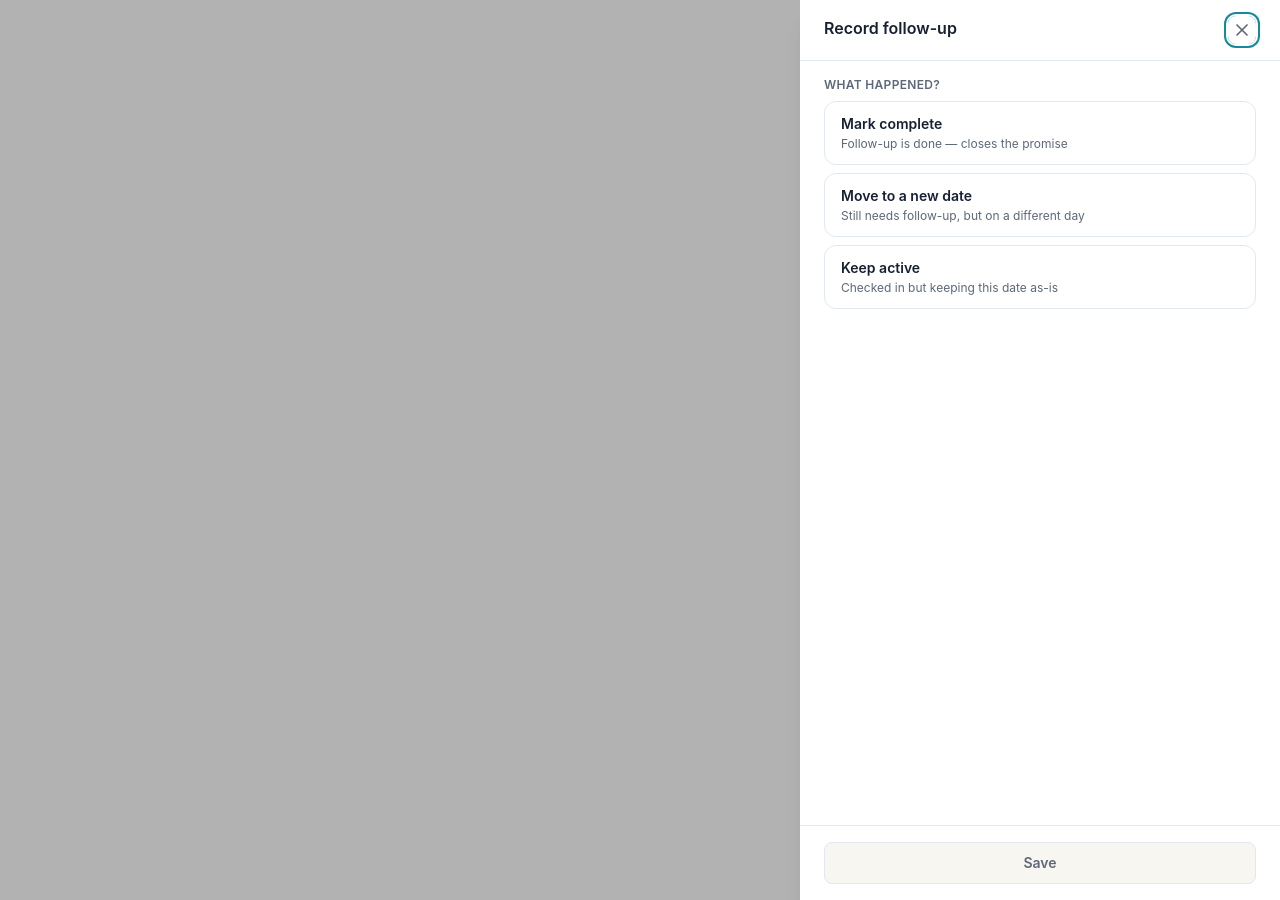
Test: FollowUpResolutionPanel — dirty-close contract › traps Tab between the two confirm buttons and Escape closes only the confirmation
Click the button "Mark complete Follow-up is done — closes the promise" at {"x": 1040, "y": 133}, box [824,101,1256,165]
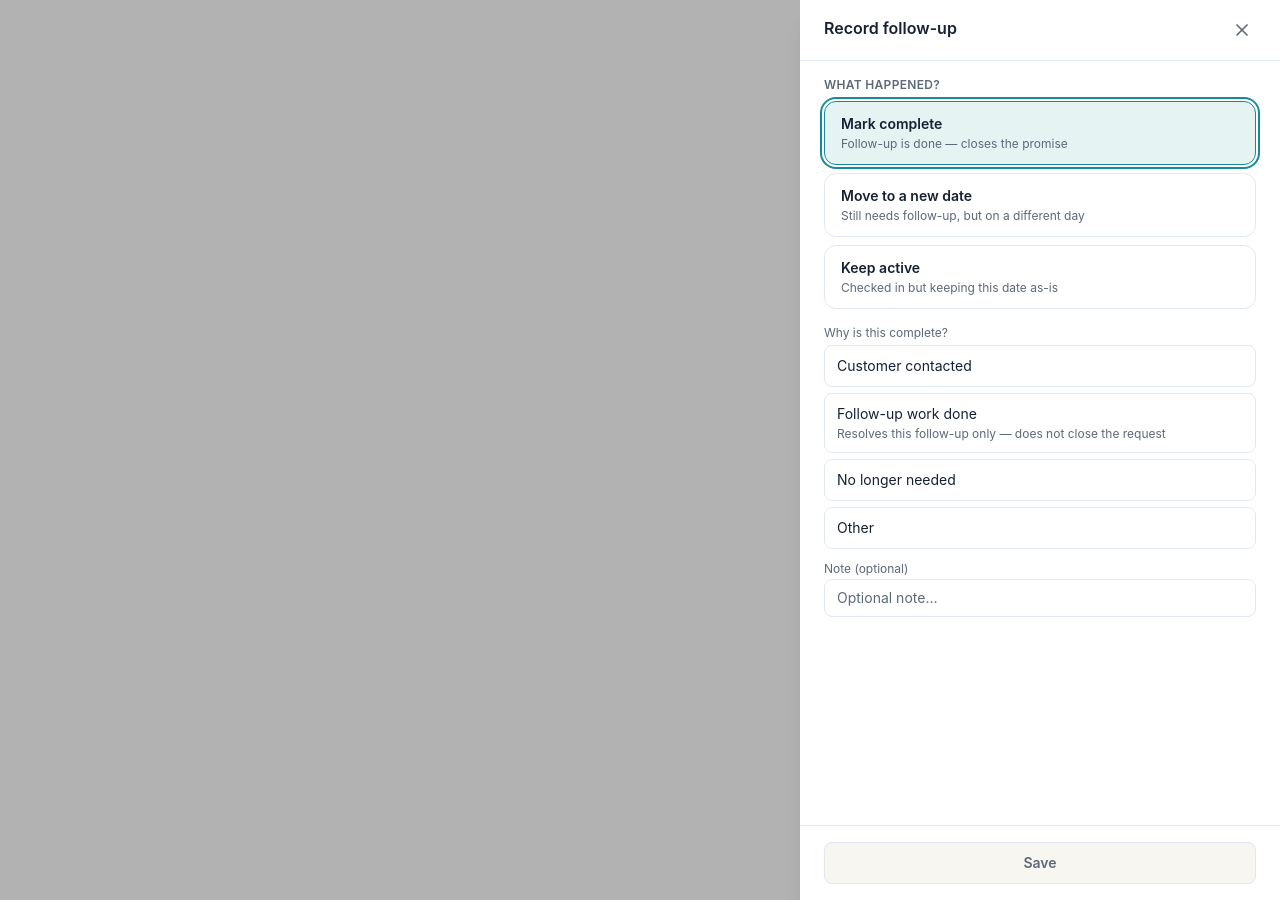
Click the button named "Close" at {"x": 1242, "y": 30}, box [1228,16,1256,44]
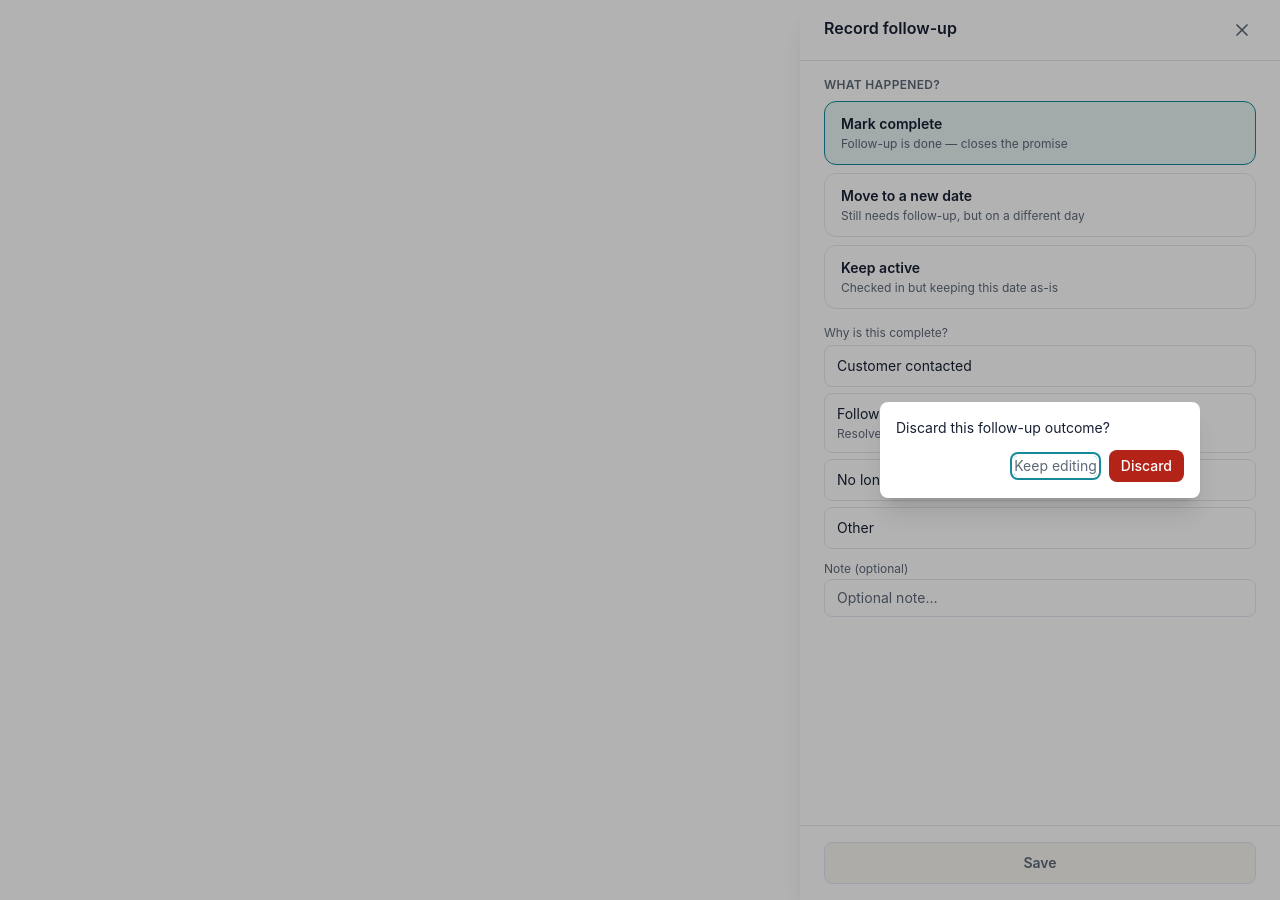
Press Tab
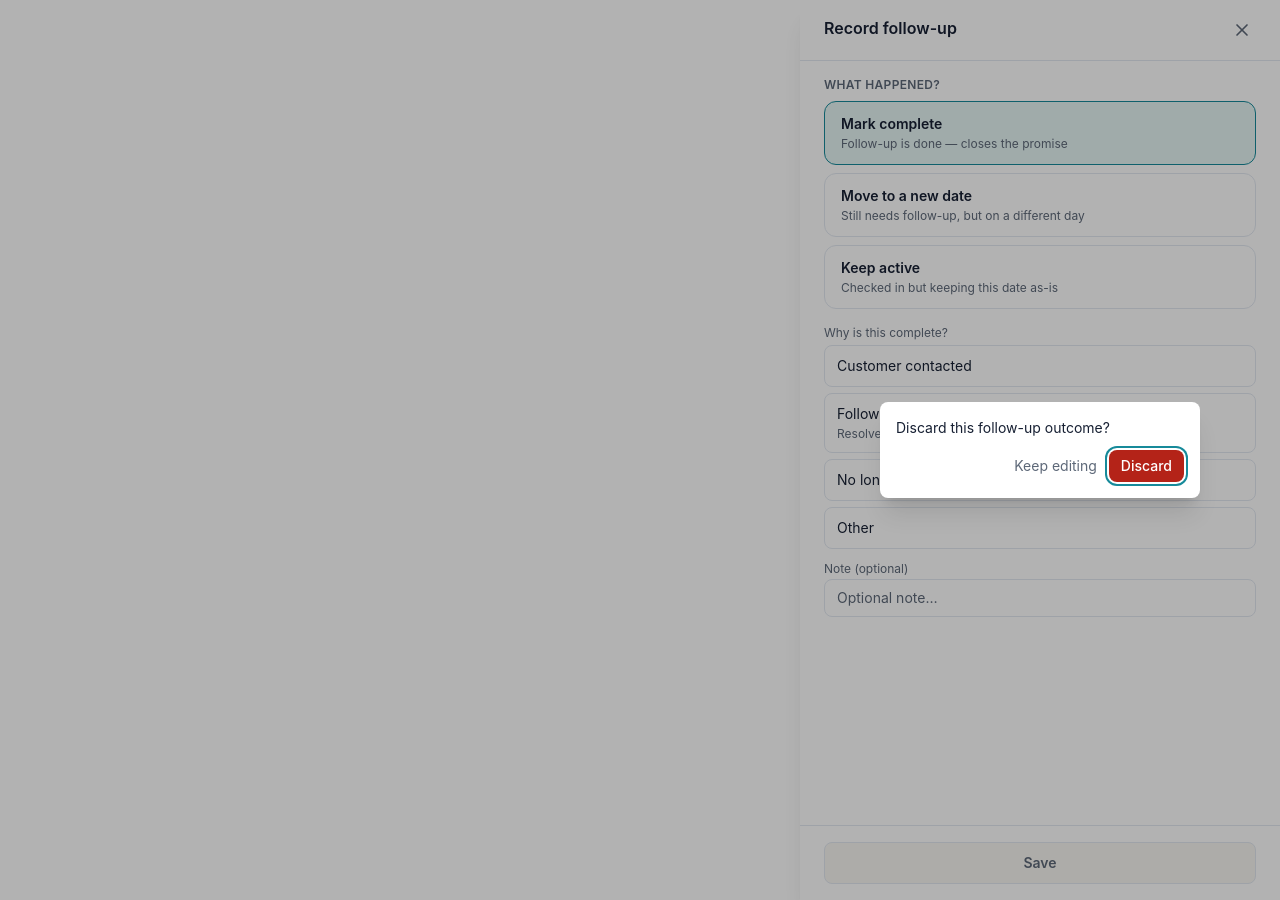
Press Tab
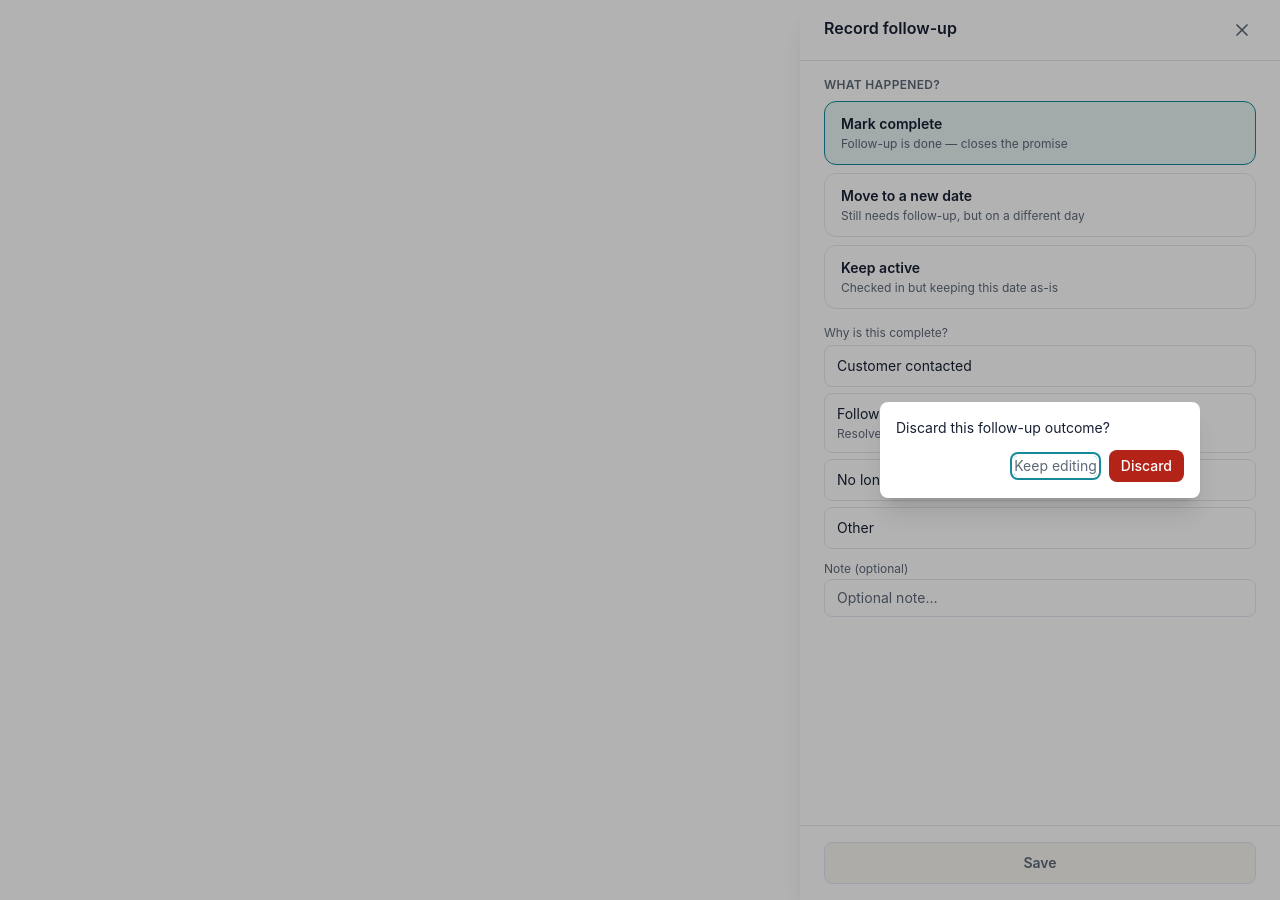
Press Escape
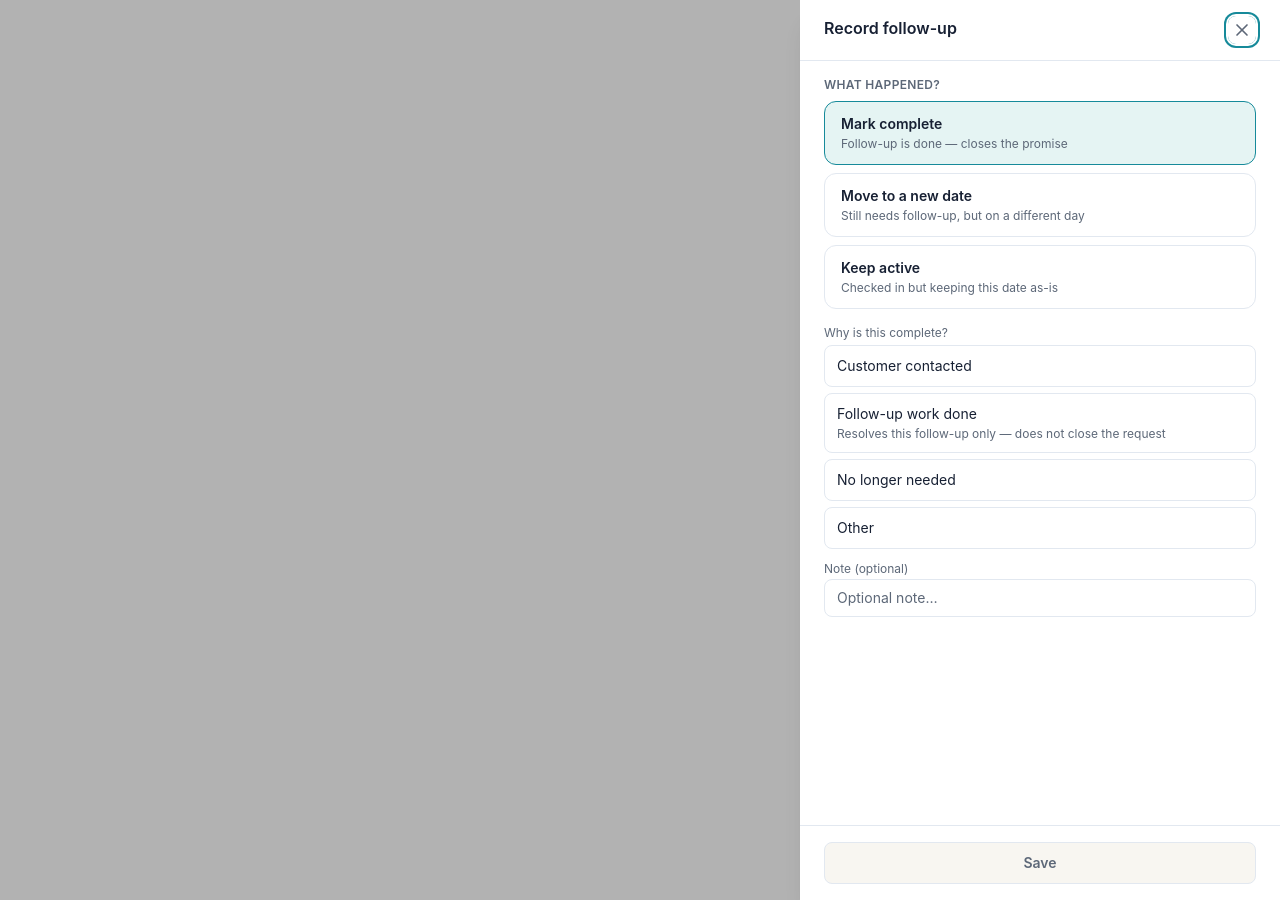
Now the text "Why is this complete?" is shown, box [824,325,948,340]
Now the dialog "Discard this follow-up outcome? Keep editing Discard" is gone
